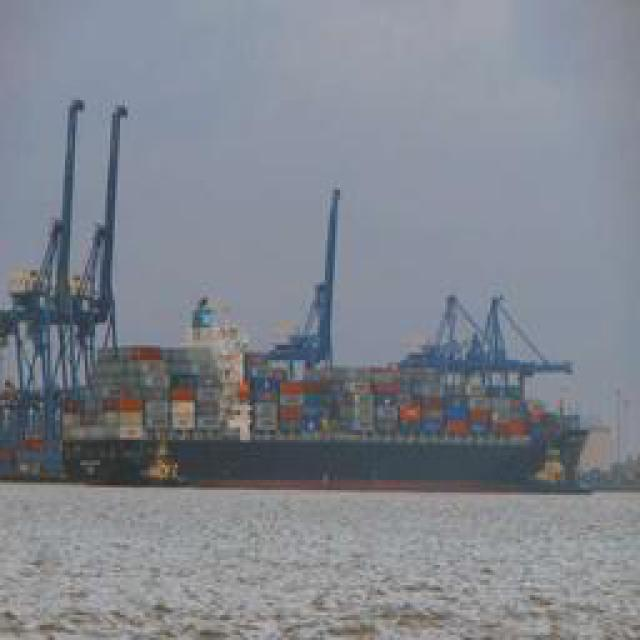Ship: (40, 200, 603, 483)
